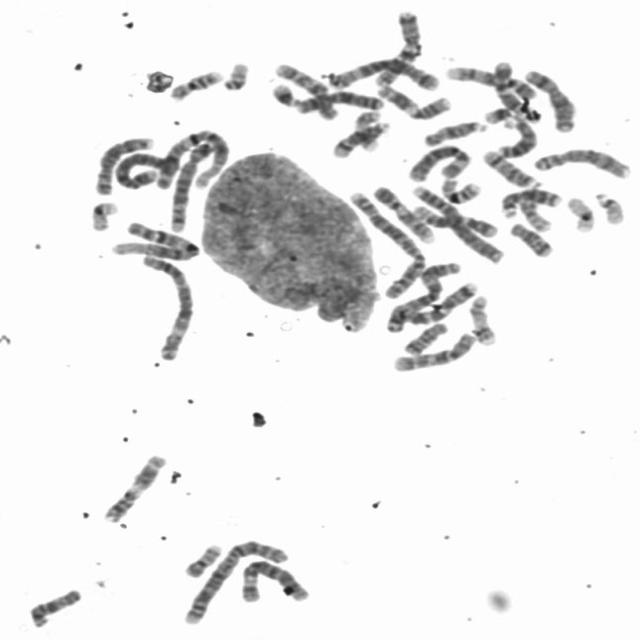A1: (149, 125, 233, 191), (107, 217, 202, 261)
A2: (178, 536, 292, 627), (344, 187, 427, 299)
A3: (136, 249, 197, 362), (381, 256, 463, 334)
B4: (408, 180, 507, 266), (110, 148, 183, 190)
B5: (165, 130, 222, 233), (323, 54, 442, 92)
C10: (271, 58, 341, 121), (388, 328, 479, 373)
C11: (98, 449, 171, 524), (373, 80, 454, 121)
C12: (409, 200, 501, 239), (487, 57, 541, 123)
C6: (235, 556, 313, 605), (403, 140, 473, 183)
C7: (386, 277, 481, 328), (370, 6, 426, 88)
C8: (89, 133, 157, 196), (528, 143, 633, 180)
C9: (368, 181, 438, 244), (440, 60, 540, 101)
D13: (496, 184, 564, 220), (494, 112, 539, 159)
D14: (327, 116, 393, 160), (478, 146, 543, 190)
D15: (25, 584, 84, 630), (419, 116, 490, 147)
E16: (165, 66, 225, 102), (436, 173, 484, 205)
E17: (465, 290, 500, 347), (349, 106, 383, 153)
E18: (504, 218, 557, 259), (399, 318, 450, 356)
F19: (563, 192, 598, 234), (85, 197, 121, 232)
F20: (180, 539, 225, 580), (515, 192, 555, 233)
G21: (267, 79, 301, 109), (478, 102, 517, 126)
G22: (590, 188, 628, 226), (218, 58, 251, 92)
X: (520, 64, 578, 134), (291, 86, 388, 115)
